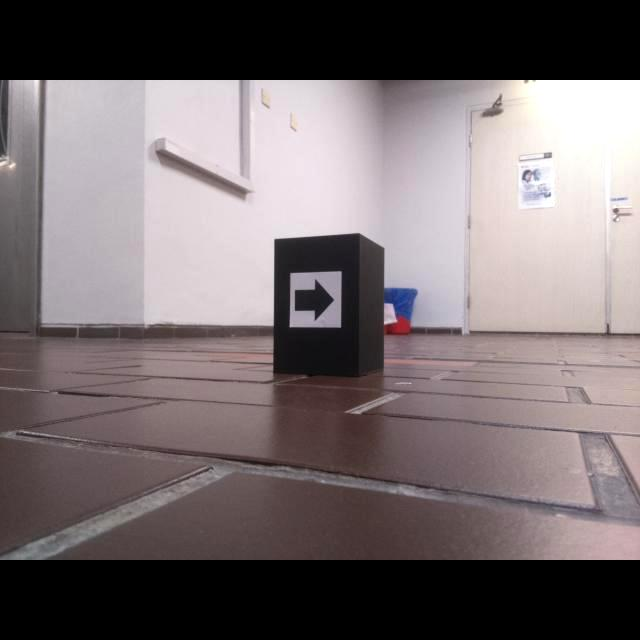RIGHT: (294, 279, 333, 322)
